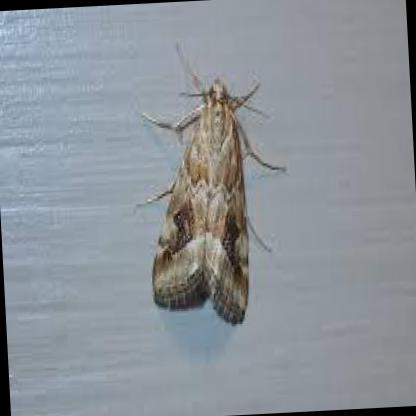Hellula undalis: (132, 30, 305, 340)
